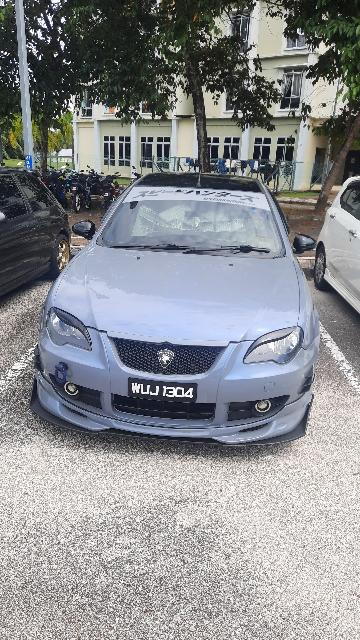License_Plate: (126, 374, 199, 407)
car: (33, 168, 324, 451)
